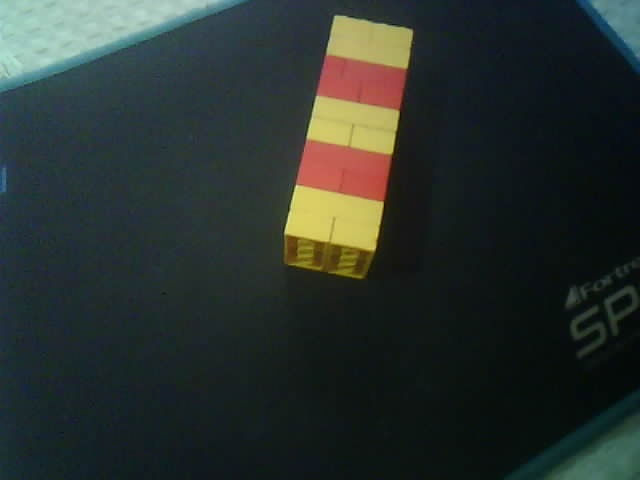lego: (281, 13, 414, 282)
